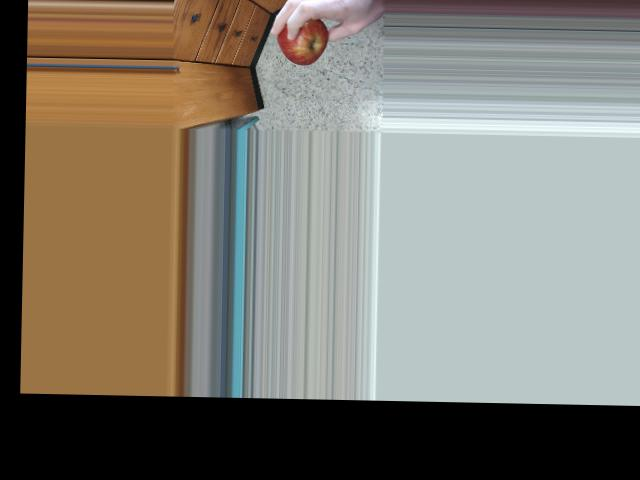apple: (270, 8, 331, 66)
